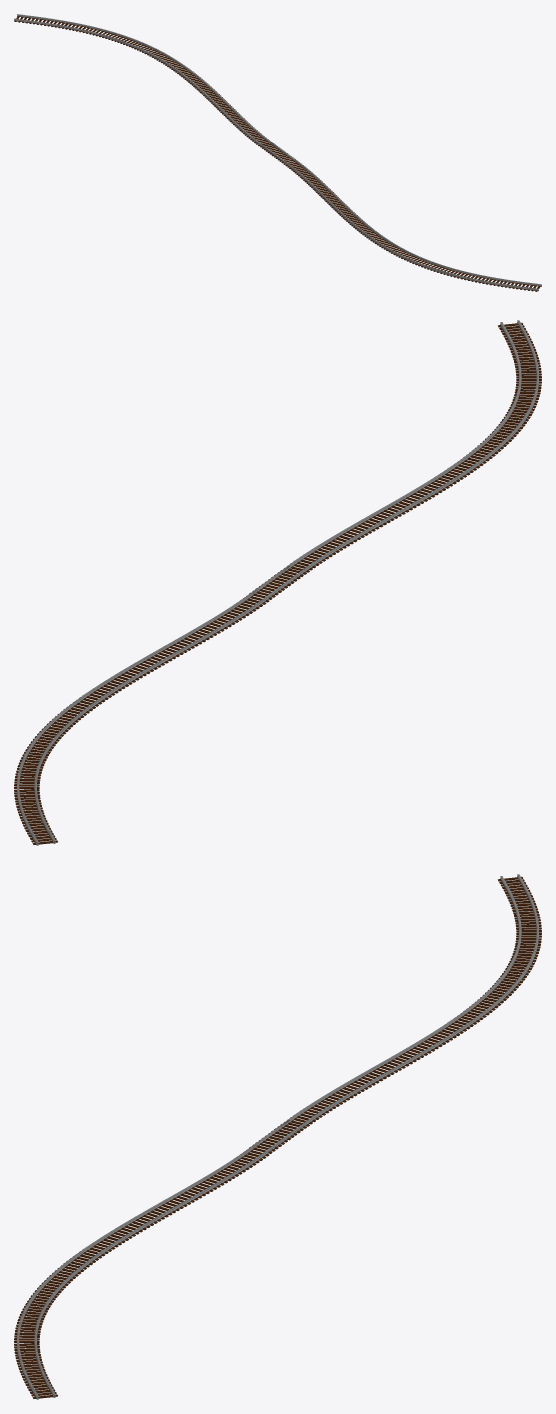
Rendered from railPath.fbx.
3 renders of one model, top to bottom at view 1: azimuth 30°, elevation 25°; view 2: azimuth 150°, elevation 25°; view 3: azimuth 330°, elevation 25°, orthographic. The views are drawn at different scales.
Visible parts, largest first — view 1: railStright, railStright.002, railelement.001; view 2: railStright.002, railStright, railelement.001; view 3: railStright, railStright.002, railelement.001.
Part boxes in pixels (x1,y1,x2,y2): railStright: (283, 159, 541, 291); railStright.002: (14, 14, 270, 146); railelement.001: (260, 142, 295, 163); railStright.002: (14, 593, 269, 845); railStright: (287, 320, 541, 572); railelement.001: (249, 565, 306, 599); railStright: (14, 1147, 269, 1399); railStright.002: (287, 874, 541, 1126); railelement.001: (249, 1119, 306, 1153).
Size of what is drawn, in the model's own units: 9.2 by 0.1461 by 52.52.
